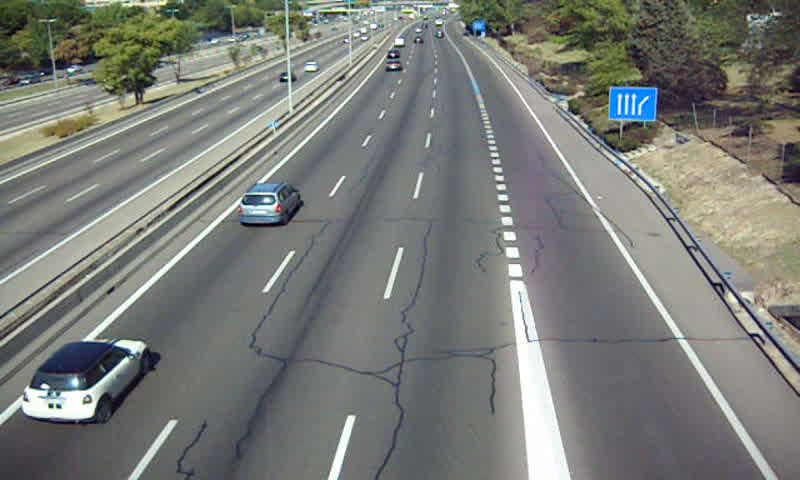car: (22, 338, 152, 424), (237, 184, 300, 225), (384, 60, 405, 73)
